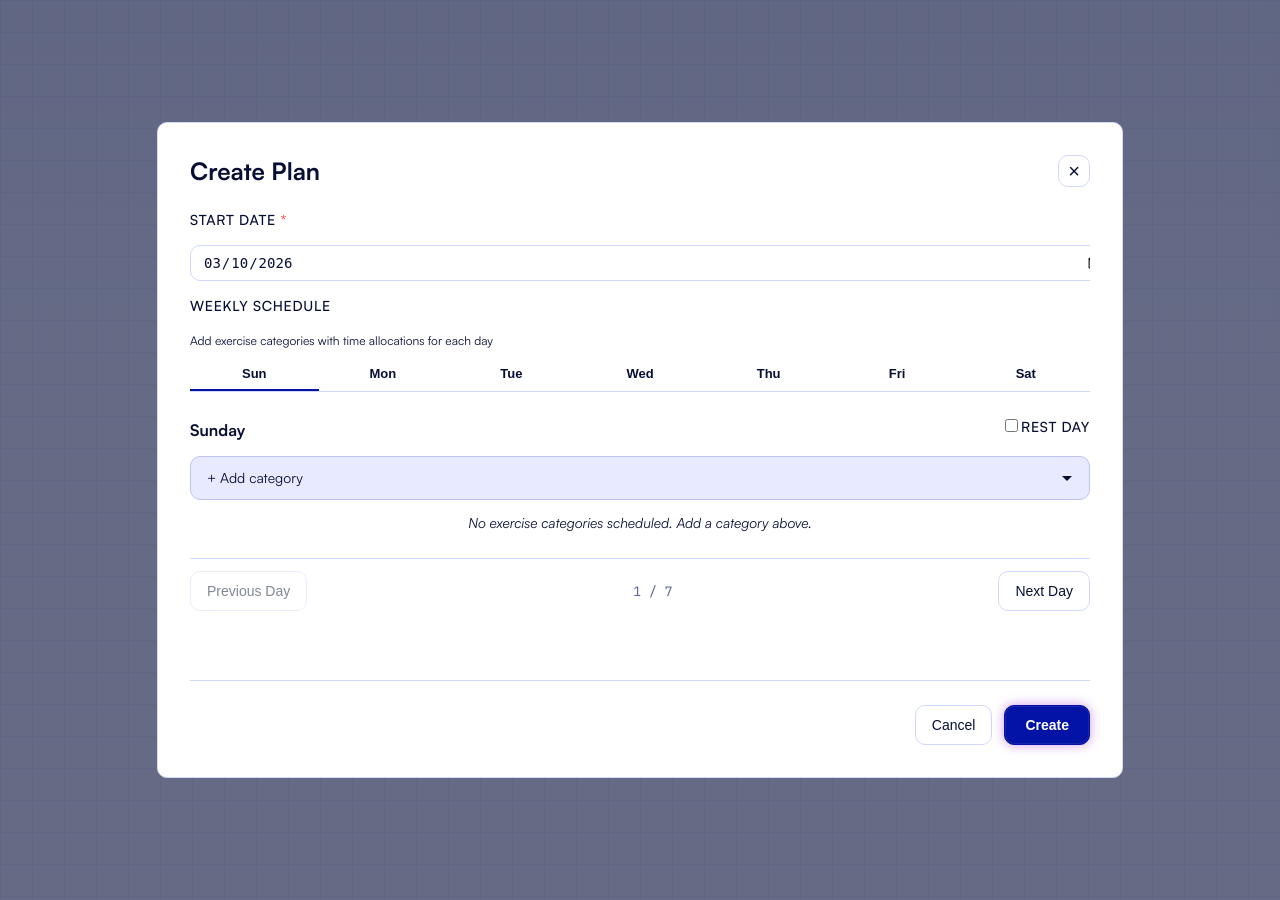
Test case: PlanFormModal › toggles rest day and shows recovery message
This screenshot has width=1280, height=900.
Click the button "Mon": (383, 375) [319, 358, 447, 391]
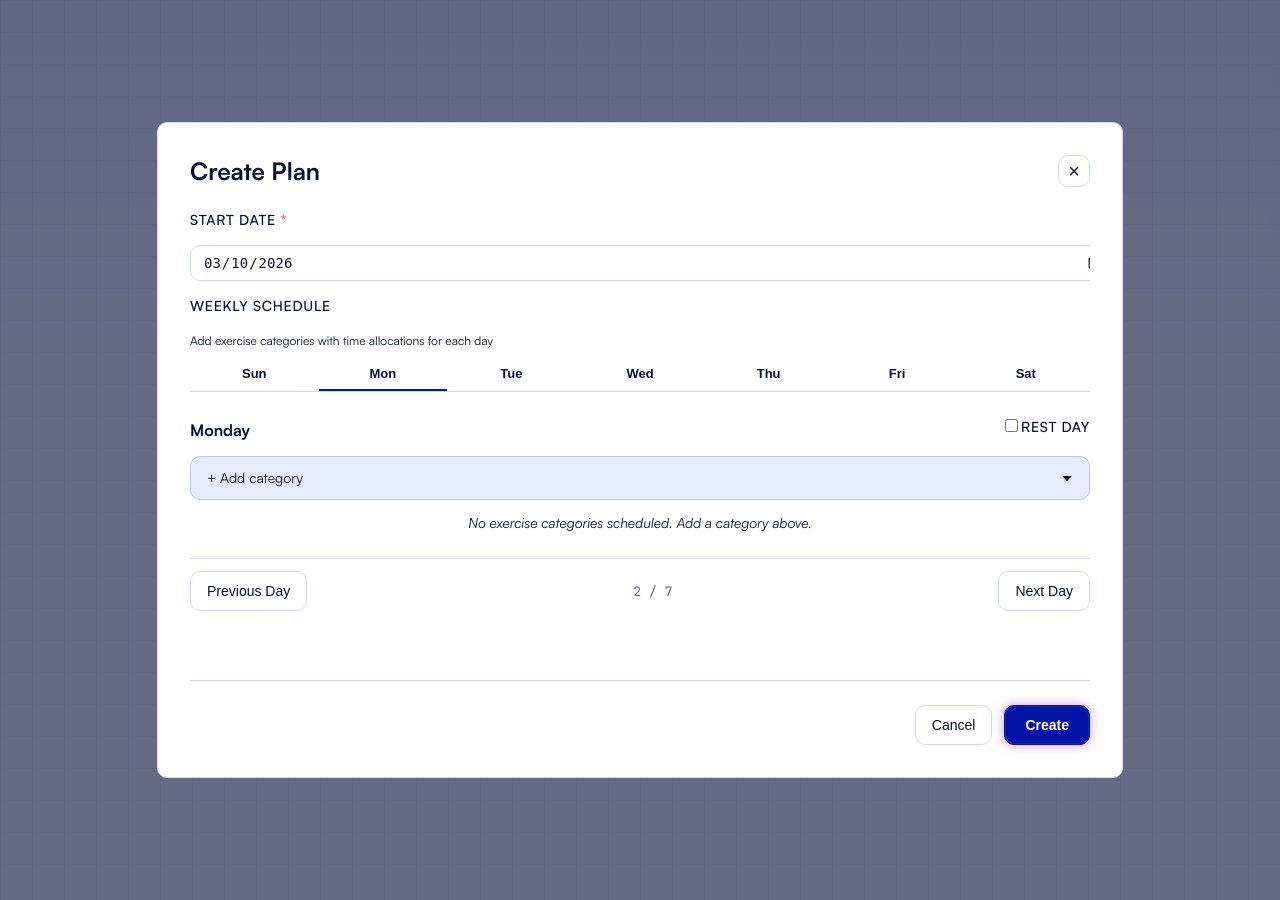
Click the checkbox: (1012, 426) [1005, 419, 1018, 432]
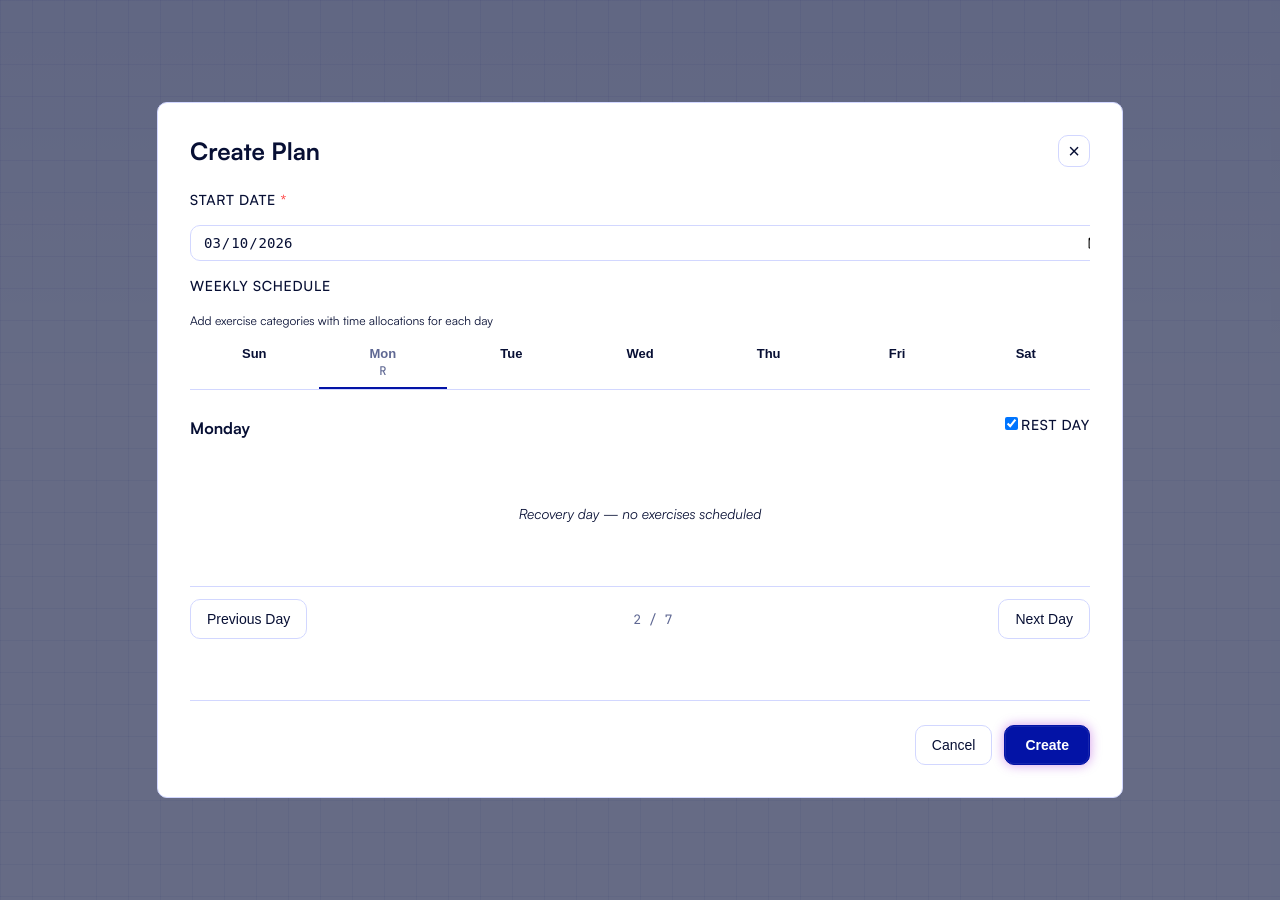
expect the text "Recovery day — no exercises scheduled" is shown: met, box [519, 503, 761, 525]
